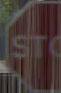Stop: (5, 13, 60, 73)
